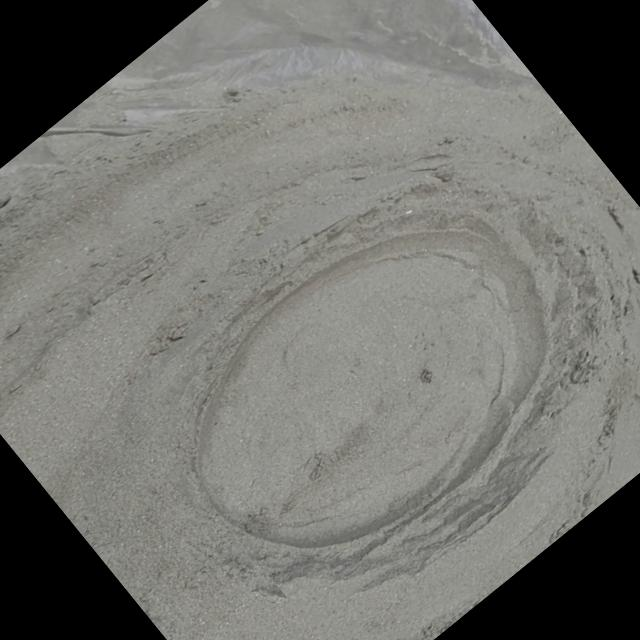C40: (195, 197, 586, 566)
